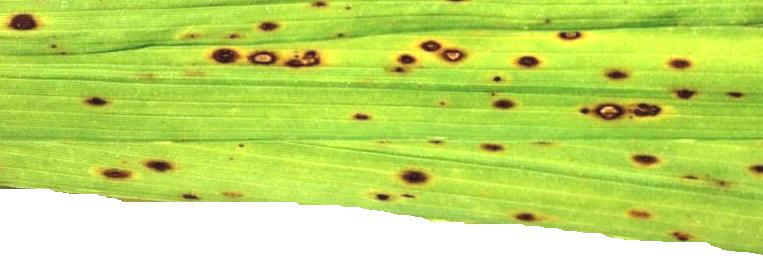0 BrownSpot: (583, 87, 693, 122), (608, 136, 673, 172), (486, 83, 535, 124), (487, 204, 562, 227), (180, 184, 258, 206), (618, 196, 665, 231), (91, 152, 140, 185), (548, 13, 595, 47), (505, 43, 547, 78), (6, 4, 45, 40), (290, 44, 329, 79), (201, 41, 245, 71), (384, 52, 428, 82), (139, 142, 177, 173), (440, 43, 472, 77), (473, 129, 508, 160), (336, 108, 390, 128), (658, 217, 695, 244), (597, 62, 641, 84), (83, 85, 115, 115), (246, 42, 281, 68), (667, 48, 698, 75), (253, 18, 287, 42), (394, 168, 439, 186), (721, 80, 753, 99), (743, 155, 763, 185), (415, 32, 443, 53), (373, 192, 398, 212), (309, 1, 333, 20)
